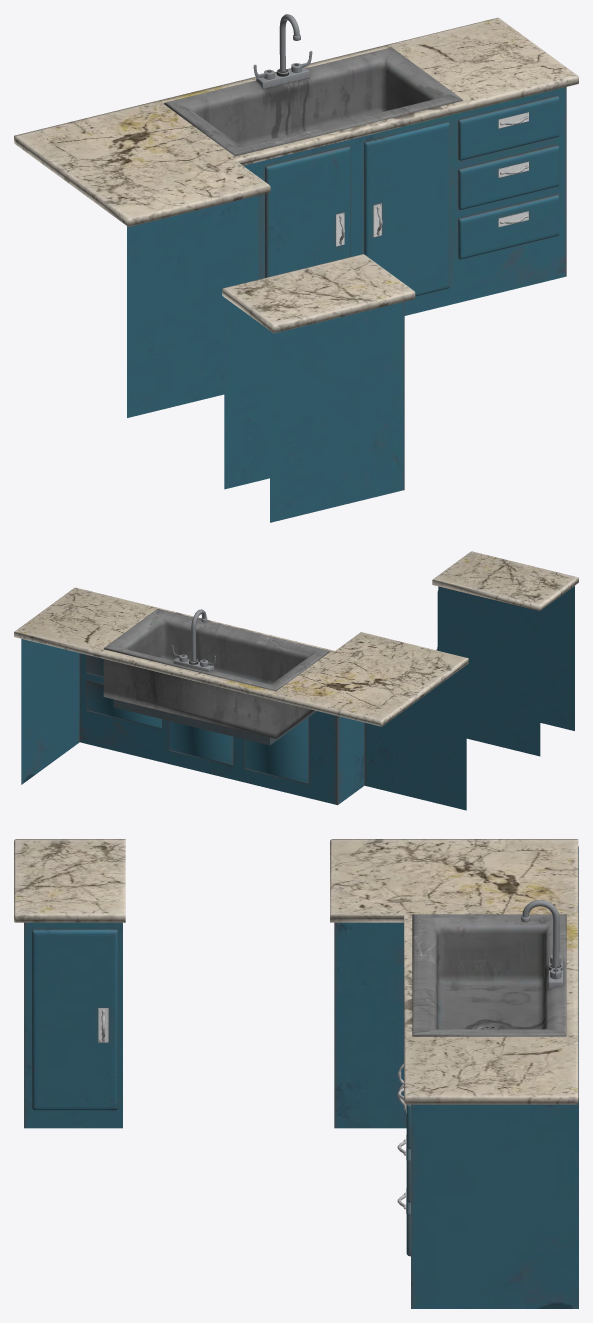
3 renders of one model, top to bottom at view 1: azimuth 30°, elevation 25°; view 2: azimuth 150°, elevation 25°; view 3: azimuth 270°, elevation 25°, orthographic. The views are drawn at different scales.
Visible parts, largest first — view 1: Cylinder; view 2: Cylinder; view 3: Cylinder.
Part boxes in pixels (bbox=[...]): Cylinder: bbox=[14, 14, 578, 522]; Cylinder: bbox=[14, 551, 578, 810]; Cylinder: bbox=[14, 839, 578, 1308].
Bounding box in the file's own units: 2.35 × 1.25 × 2.18.
1 material, 1 textured.
